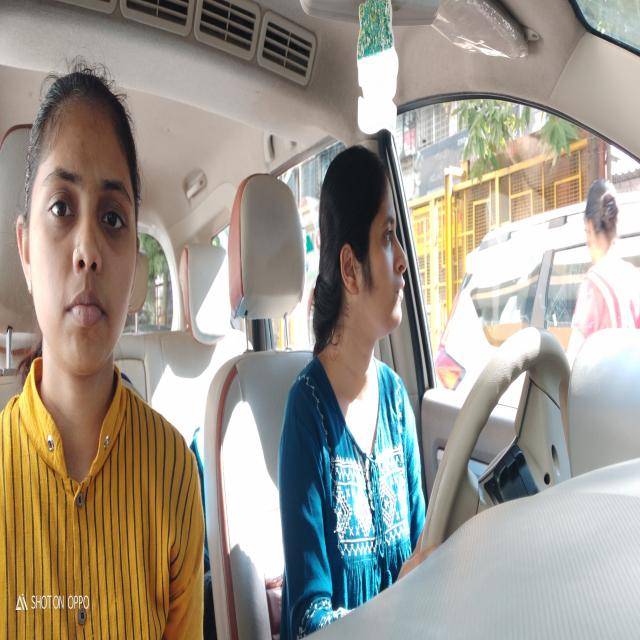LeftRight: (311, 146, 411, 356)
person: (12, 56, 146, 388)
